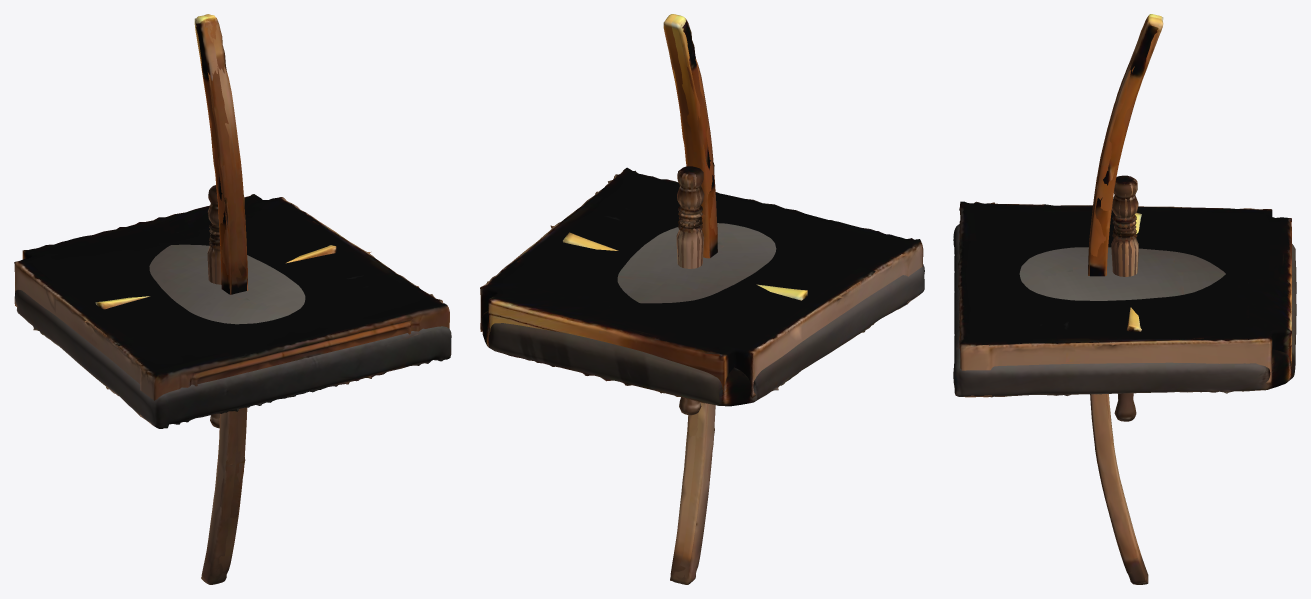
The picture shows the model from 3 angles, left to right: view 1: azimuth 30°, elevation 25°; view 2: azimuth 150°, elevation 25°; view 3: azimuth 270°, elevation 25°; orthographic projection.
Visible parts, largest first — view 1: root.0, root.1, root.2, root.3, root.7, root.4; view 2: root.0, root.1, root.2, root.3, root.7, root.6, root.4; view 3: root.0, root.1, root.3, root.2, root.6, root.7.
Part boxes in pixels (left/top/right/bottom): root.0: left=14, top=194, right=449, bottom=425; root.1: left=15, top=244, right=451, bottom=428; root.2: left=194, top=15, right=247, bottom=584; root.3: left=196, top=14, right=248, bottom=584; root.7: left=207, top=185, right=219, bottom=428; root.4: left=95, top=245, right=336, bottom=309; root.0: left=480, top=167, right=923, bottom=398; root.1: left=481, top=223, right=924, bottom=406; root.2: left=670, top=15, right=717, bottom=584; root.3: left=663, top=14, right=717, bottom=584; root.7: left=676, top=166, right=704, bottom=415; root.6: left=676, top=166, right=704, bottom=414; root.4: left=563, top=232, right=807, bottom=300; root.0: left=958, top=201, right=1292, bottom=397; root.1: left=953, top=224, right=1296, bottom=397; root.3: left=1088, top=16, right=1163, bottom=584; root.2: left=1088, top=14, right=1163, bottom=584; root.6: left=1111, top=176, right=1138, bottom=421; root.7: left=1111, top=175, right=1138, bottom=412.
Size of the model in its own units: 14690 by 26239 by 14432.
Materials: 1 (1 with a texture image).
